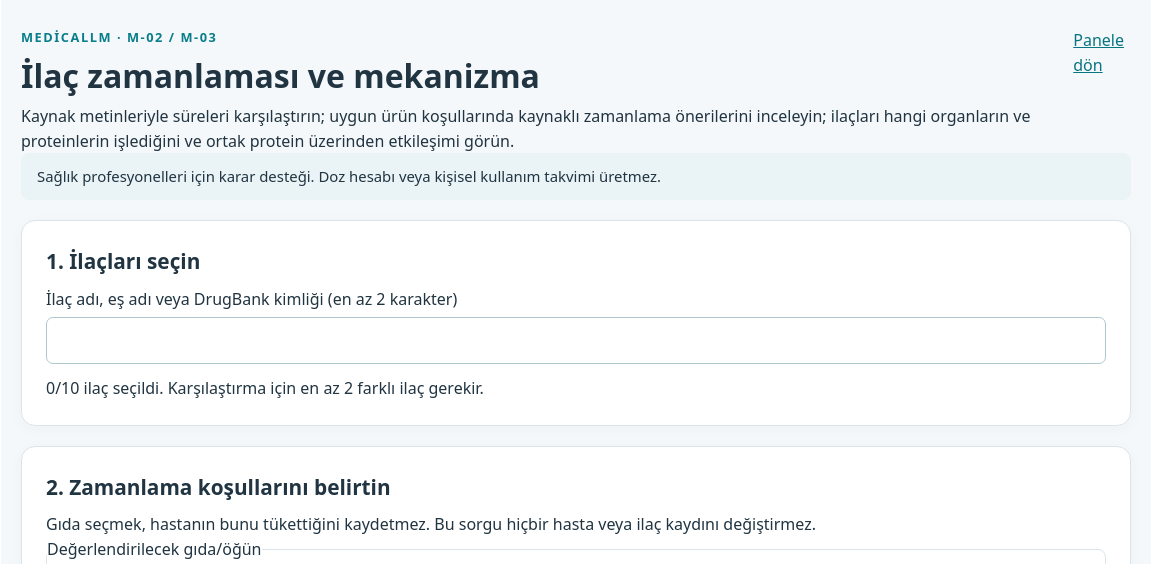
Test: M02 complete screen › distinguishes an empty search from a failed search
The width and height of the screenshot is (1152, 564).
Type "empty" into the field labelled "İlaç adı, eş adı veya DrugBank kimliği (en az 2 karakter)" at (576, 340), box [46,317,1106,364]
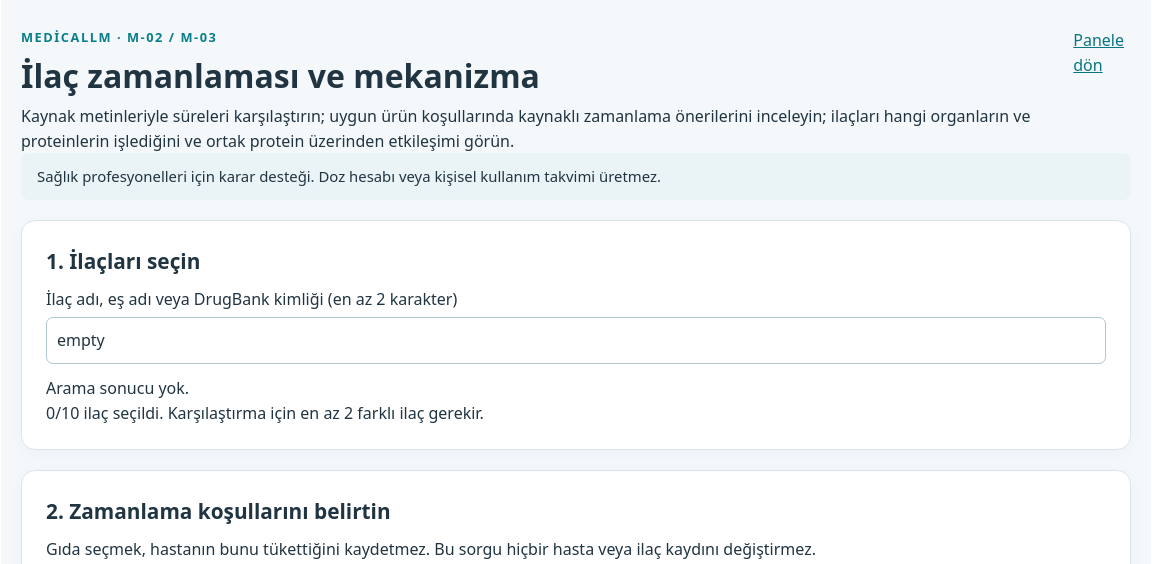
expect the text "Arama sonucu yok." is shown: met, box [46,377,189,399]
Replace the text in the field labelled "İlaç adı, eş adı veya DrugBank kimliği (en az 2 karakter)" with "broken" at (576, 340), box [46,317,1106,364]
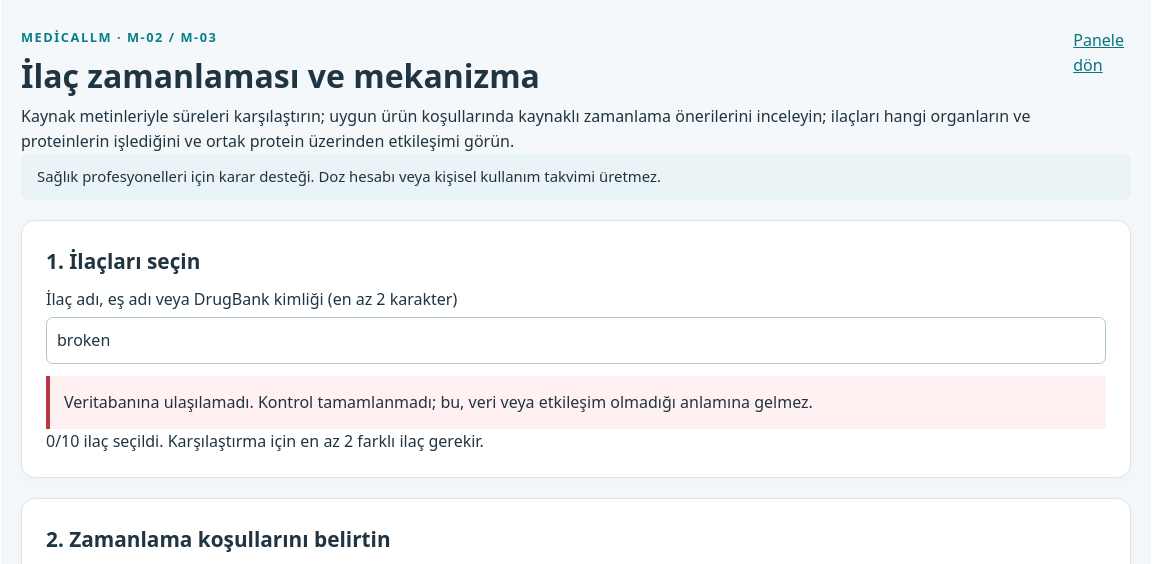
expect the message is shown: met, box [46,376,1106,429]
expect the text "Arama sonucu yok." is gone: met
